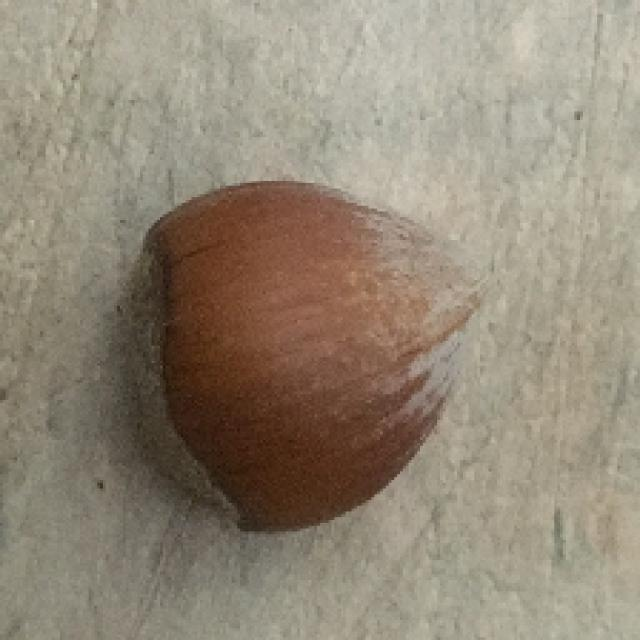QualityHazelnut: (122, 175, 497, 538)
